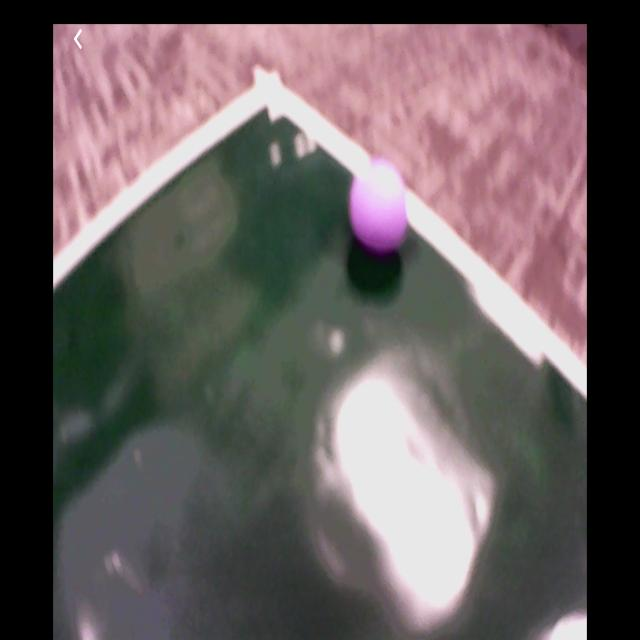ball: (351, 165, 410, 252)
